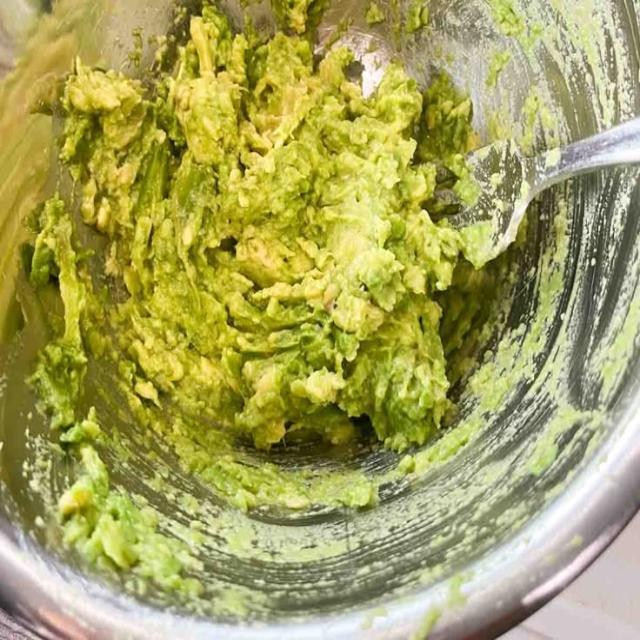avocado: (20, 0, 510, 595)
